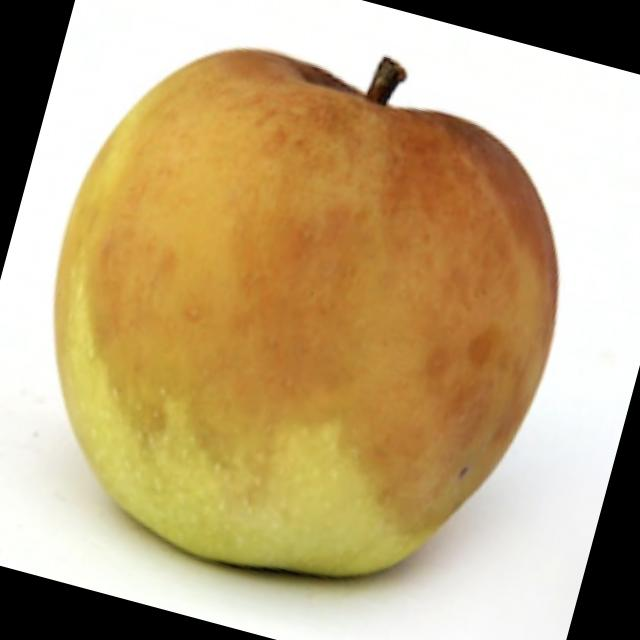rotten_apple: (0, 0, 612, 632)
